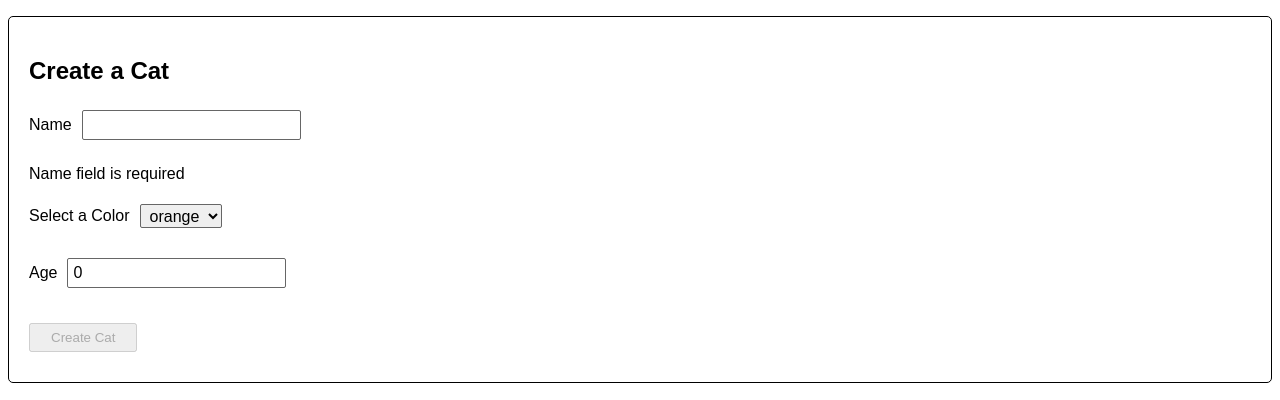
Test: (14 points) CatForm › (1 point) should show a "Name must be fewer than 30 characters" error if name is too long
In the field labelled "Name": (191, 125) [82, 110, 301, 140], type "This name is much more than 30 characters long."
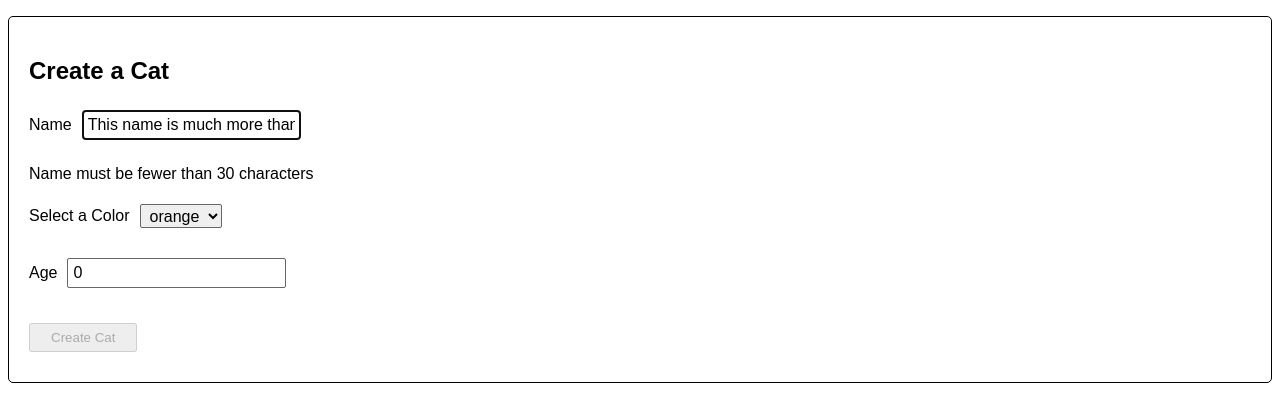
Result: the text "Name must be fewer than 30 characters" is shown at [29, 165, 314, 182]
Result: the text "Name field is required" is gone
